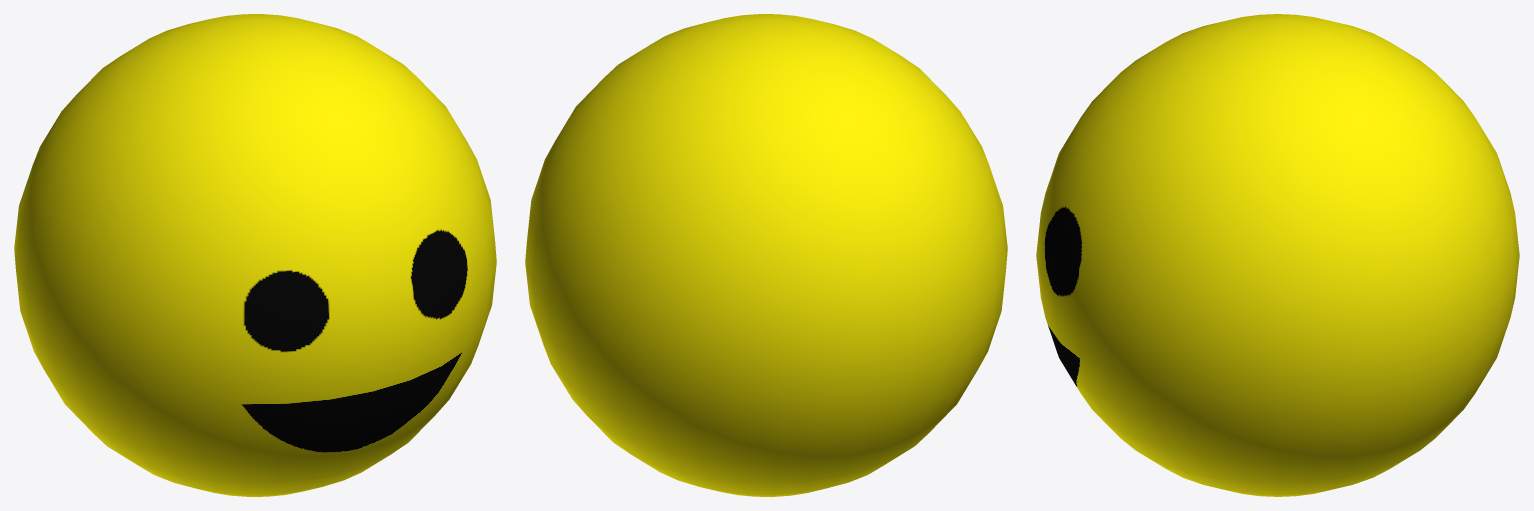
The model's file is enemy_flash.fbx.
The picture shows the model from 3 angles, left to right: view 1: azimuth 30°, elevation 25°; view 2: azimuth 150°, elevation 25°; view 3: azimuth 270°, elevation 25°; orthographic projection.
Parts seen in each view (by area): view 1: Sphere; view 2: Sphere; view 3: Sphere.
Boxes of the visible parts, <box> form: Sphere: <box>14,14,496,496</box>; Sphere: <box>525,14,1007,496</box>; Sphere: <box>1036,14,1519,496</box>.
Bounding box in the file's own units: 200 × 200 × 200.
1 material, 1 textured.
